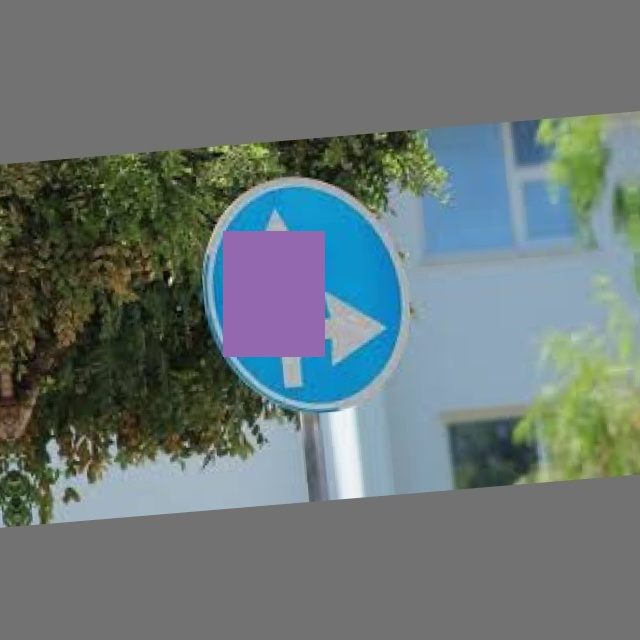Compulsory_Ahead_or_Turn_Right: (200, 167, 423, 422)
